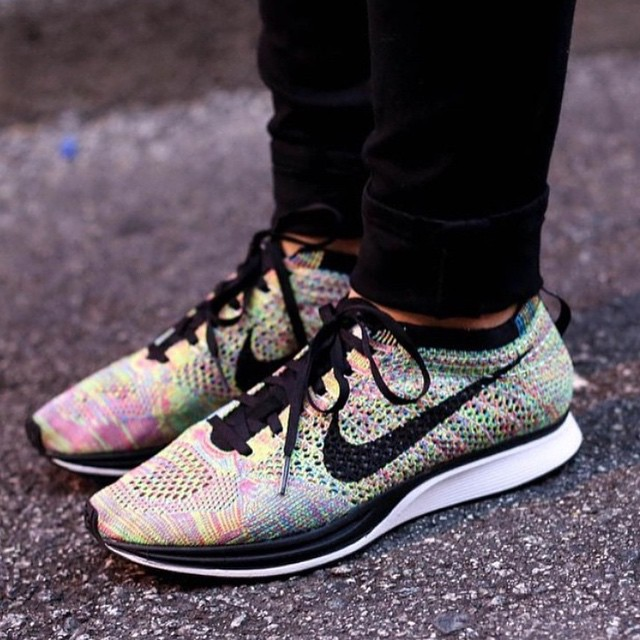sneaker: (72, 249, 608, 612), (11, 216, 395, 491)
